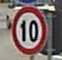limite 10: (10, 6, 47, 55)
